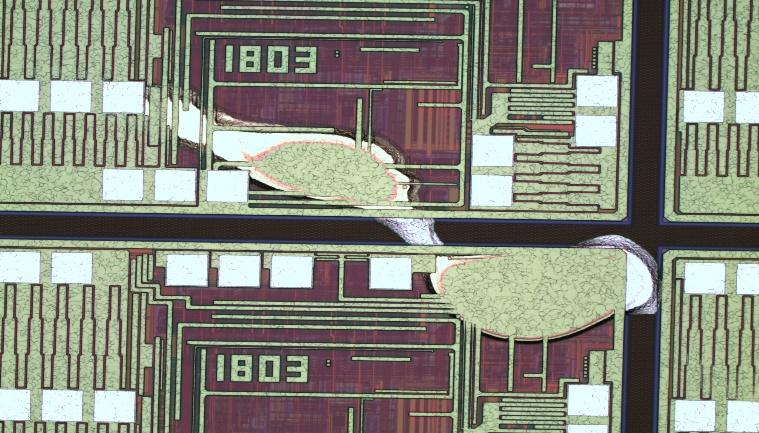BLOCK ETCH: (122, 79, 663, 348)
